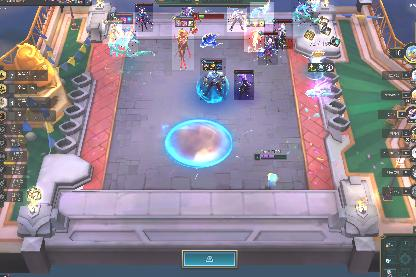1_joy: (244, 18, 264, 52)
1_sohm: (250, 2, 274, 24)
1_soraka: (182, 8, 194, 16)
1_sylas: (227, 8, 247, 32)
1_vladimir: (135, 4, 153, 32)
1_yasuo: (234, 70, 254, 100)
2_lux: (273, 19, 293, 49)
2_sohm: (112, 13, 138, 57), (291, 0, 321, 26)
2_sylas: (200, 58, 226, 100)
2_vladimir: (258, 31, 278, 65)
3_lillia: (172, 16, 194, 70)
3_taliyah: (102, 20, 122, 44)
